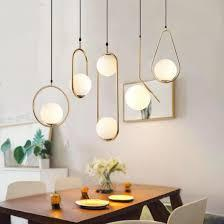chair: (5, 178, 49, 216), (170, 192, 204, 224), (55, 172, 84, 193), (108, 220, 166, 224)
light: (34, 13, 63, 128), (96, 0, 118, 143), (127, 0, 154, 115), (147, 0, 183, 86), (72, 0, 92, 103), (98, 1, 117, 84)
table: (1, 183, 187, 224)
